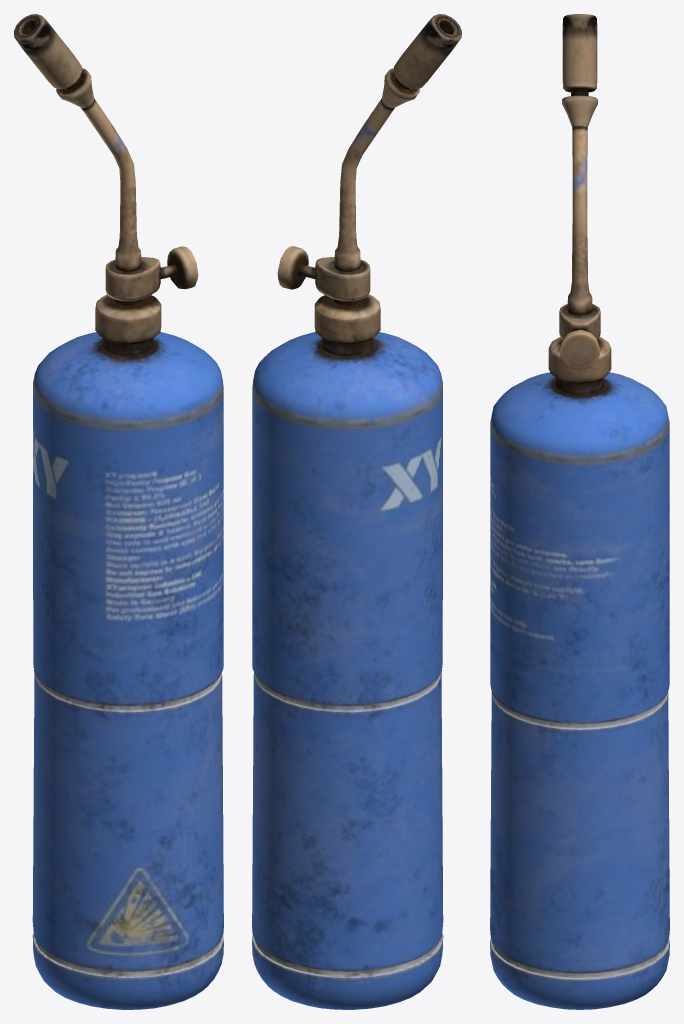
The model's file is propane_torch.glb.
3 renders of one model, left to right at view 1: azimuth 30°, elevation 25°; view 2: azimuth 150°, elevation 25°; view 3: azimuth 270°, elevation 25°, orthographic. The views are drawn at different scales.
Parts seen in each view (by area): view 1: propane_torch; view 2: propane_torch; view 3: propane_torch.
Part boxes in pixels (x1,y1,x2,y2): propane_torch: [14, 14, 223, 1009]; propane_torch: [252, 14, 461, 1009]; propane_torch: [490, 14, 669, 1009].
Size of the model in its own units: 0.068 by 0.3281 by 0.0579.
Materials: 1 (1 with a texture image).
